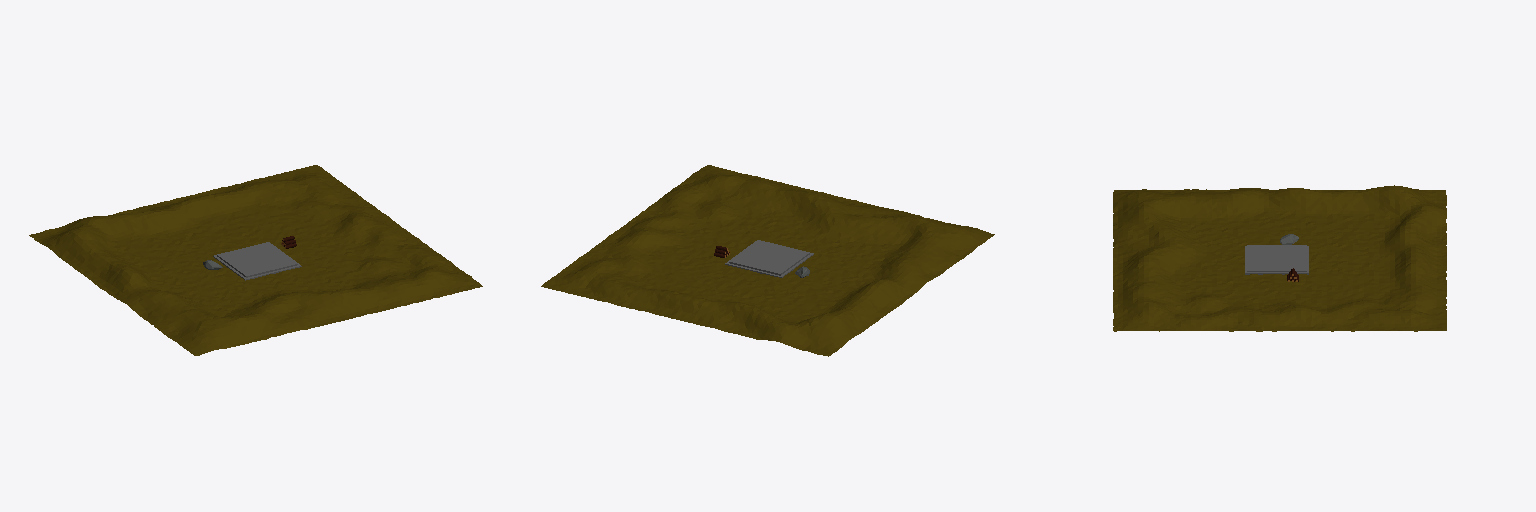
File: island.obj
3 renders of one model, left to right at view 1: azimuth 30°, elevation 25°; view 2: azimuth 150°, elevation 25°; view 3: azimuth 270°, elevation 25°, orthographic.
Parts seen in each view (by area): view 1: Plane, Arena_Arena_material; view 2: Plane, Arena_Arena_material; view 3: Plane, Arena_Arena_material.
Boxes of the visible parts, x1=… form: Plane: x1=29, y1=165, x2=482, y2=355; Arena_Arena_material: x1=213, y1=242, x2=301, y2=280; Plane: x1=541, y1=165, x2=994, y2=356; Arena_Arena_material: x1=725, y1=240, x2=813, y2=277; Plane: x1=1113, y1=185, x2=1446, y2=331; Arena_Arena_material: x1=1245, y1=245, x2=1308, y2=274.
Bounding box in the file's own units: 121 × 8.72 × 121.